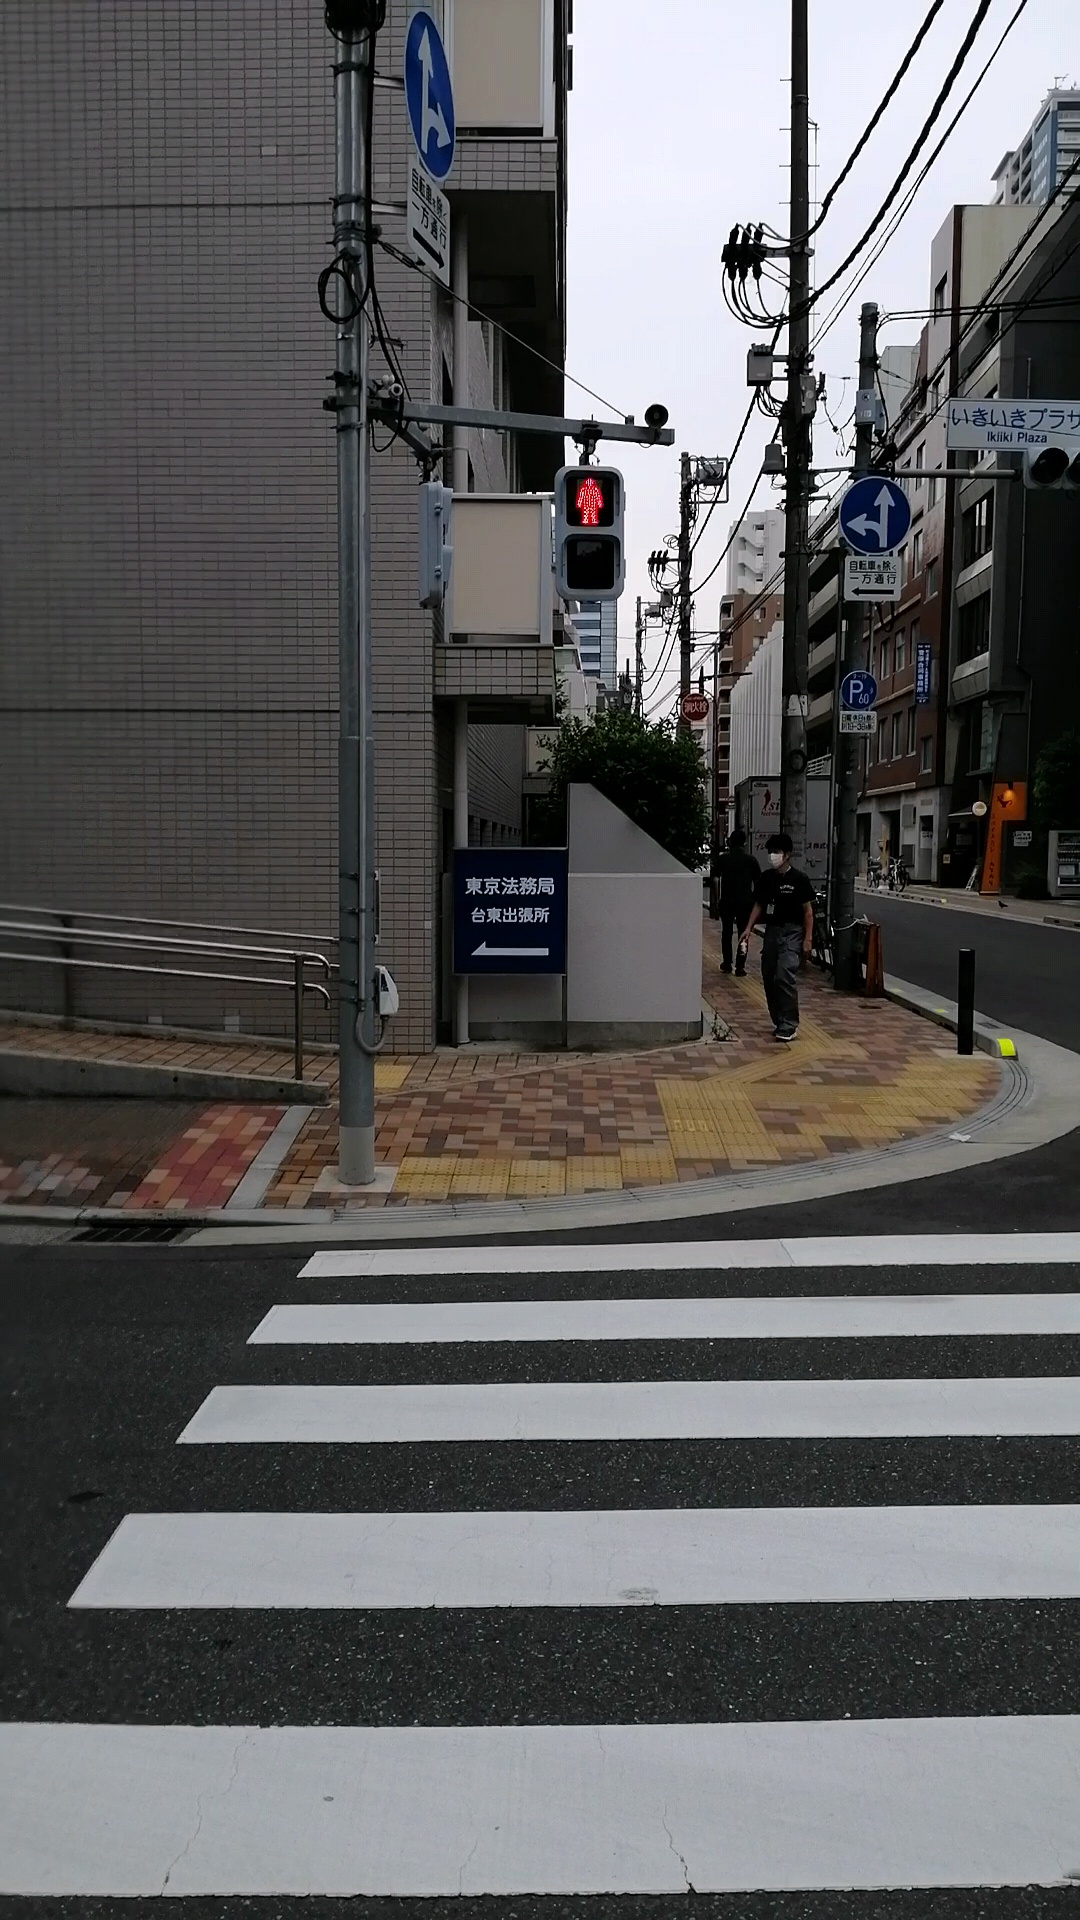red: (554, 465, 624, 600)
